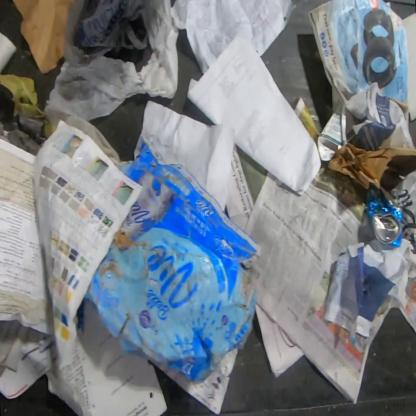cardboard: (85, 136, 262, 383)
metal: (366, 191, 404, 246)
soft_plastic: (45, 1, 179, 122)
